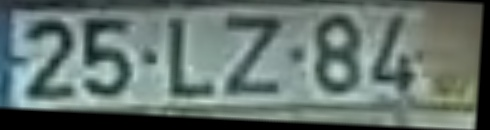2: (13, 14, 79, 108)
4: (367, 14, 421, 100)
5: (78, 17, 141, 103)
8: (312, 12, 367, 99)
L: (165, 17, 218, 104)
Z: (221, 13, 288, 101)
